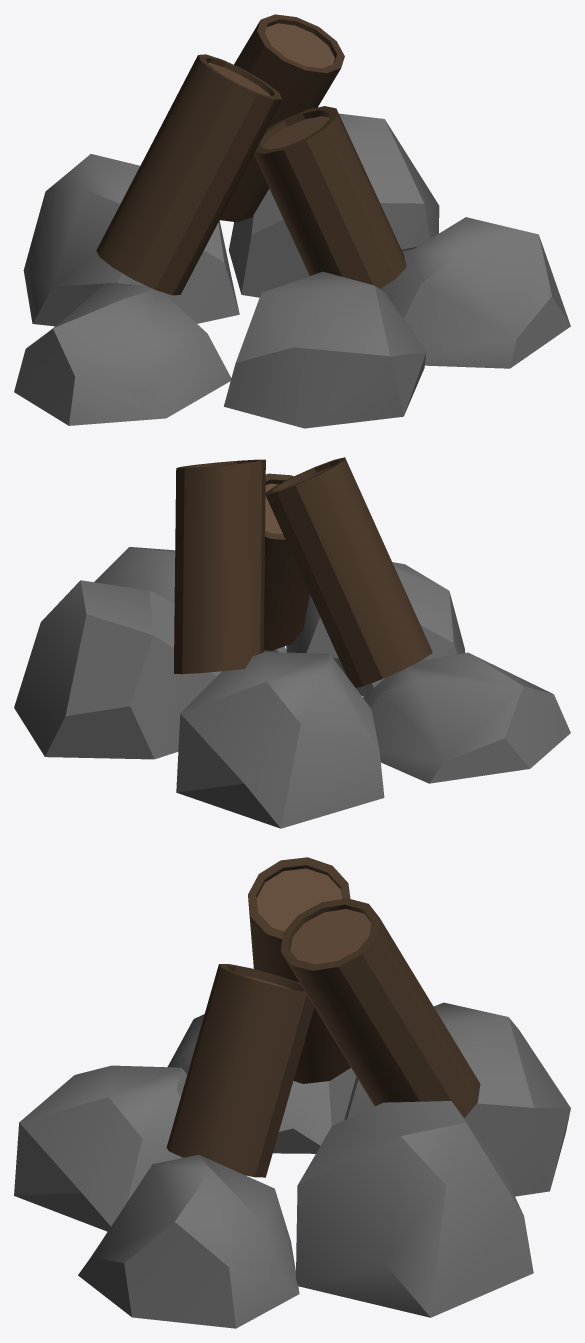
The model's file is campfire.fbx.
3 views of the same model, one above another, from view 1: azimuth 30°, elevation 25°; view 2: azimuth 150°, elevation 25°; view 3: azimuth 270°, elevation 25° (orthographic). The views are drawn at different scales.
Parts seen in each view (by area): view 1: Campfire.001; view 2: Campfire.001; view 3: Campfire.001.
Part boxes in pixels (x1=…): Campfire.001: x1=14, y1=14, x2=570, y2=428; Campfire.001: x1=14, y1=457, x2=570, y2=828; Campfire.001: x1=14, y1=857, x2=570, y2=1328.
Bounding box in the file's own units: 1.72 × 0.9108 × 1.48.
